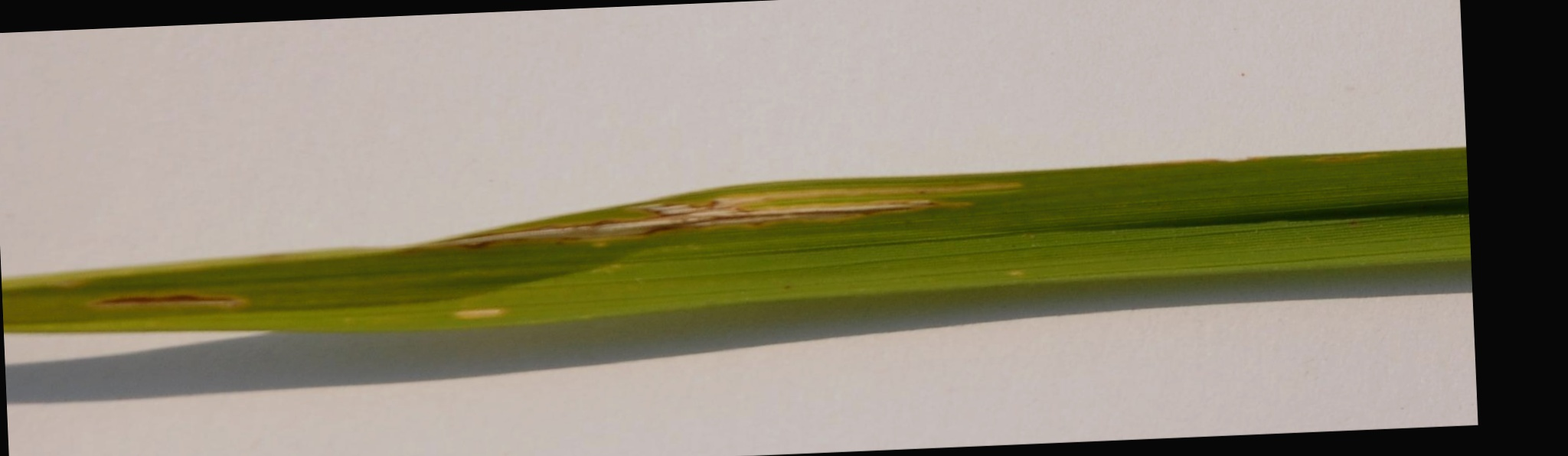Leaf_Blast: (0, 232, 541, 340), (447, 177, 1084, 239)
